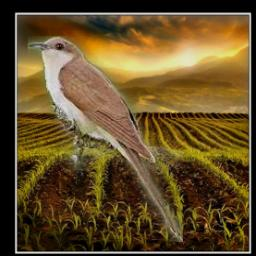Cuckoo: (28, 36, 183, 242)
